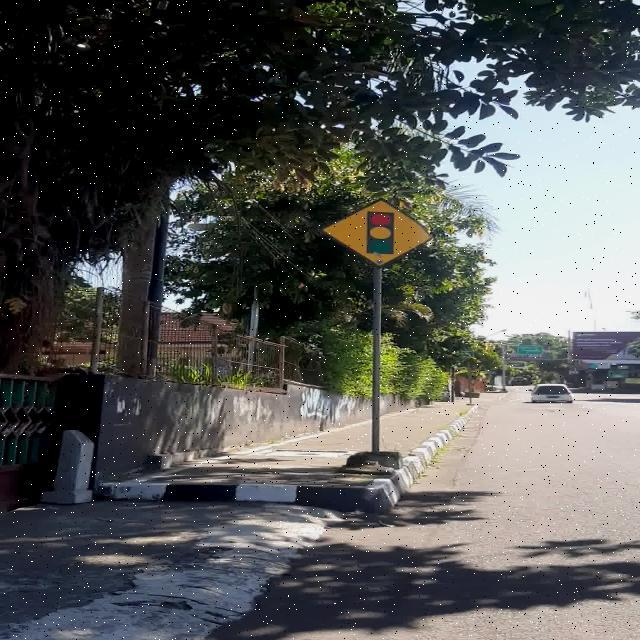Lampu Lalu Lintas: (320, 198, 432, 268)
